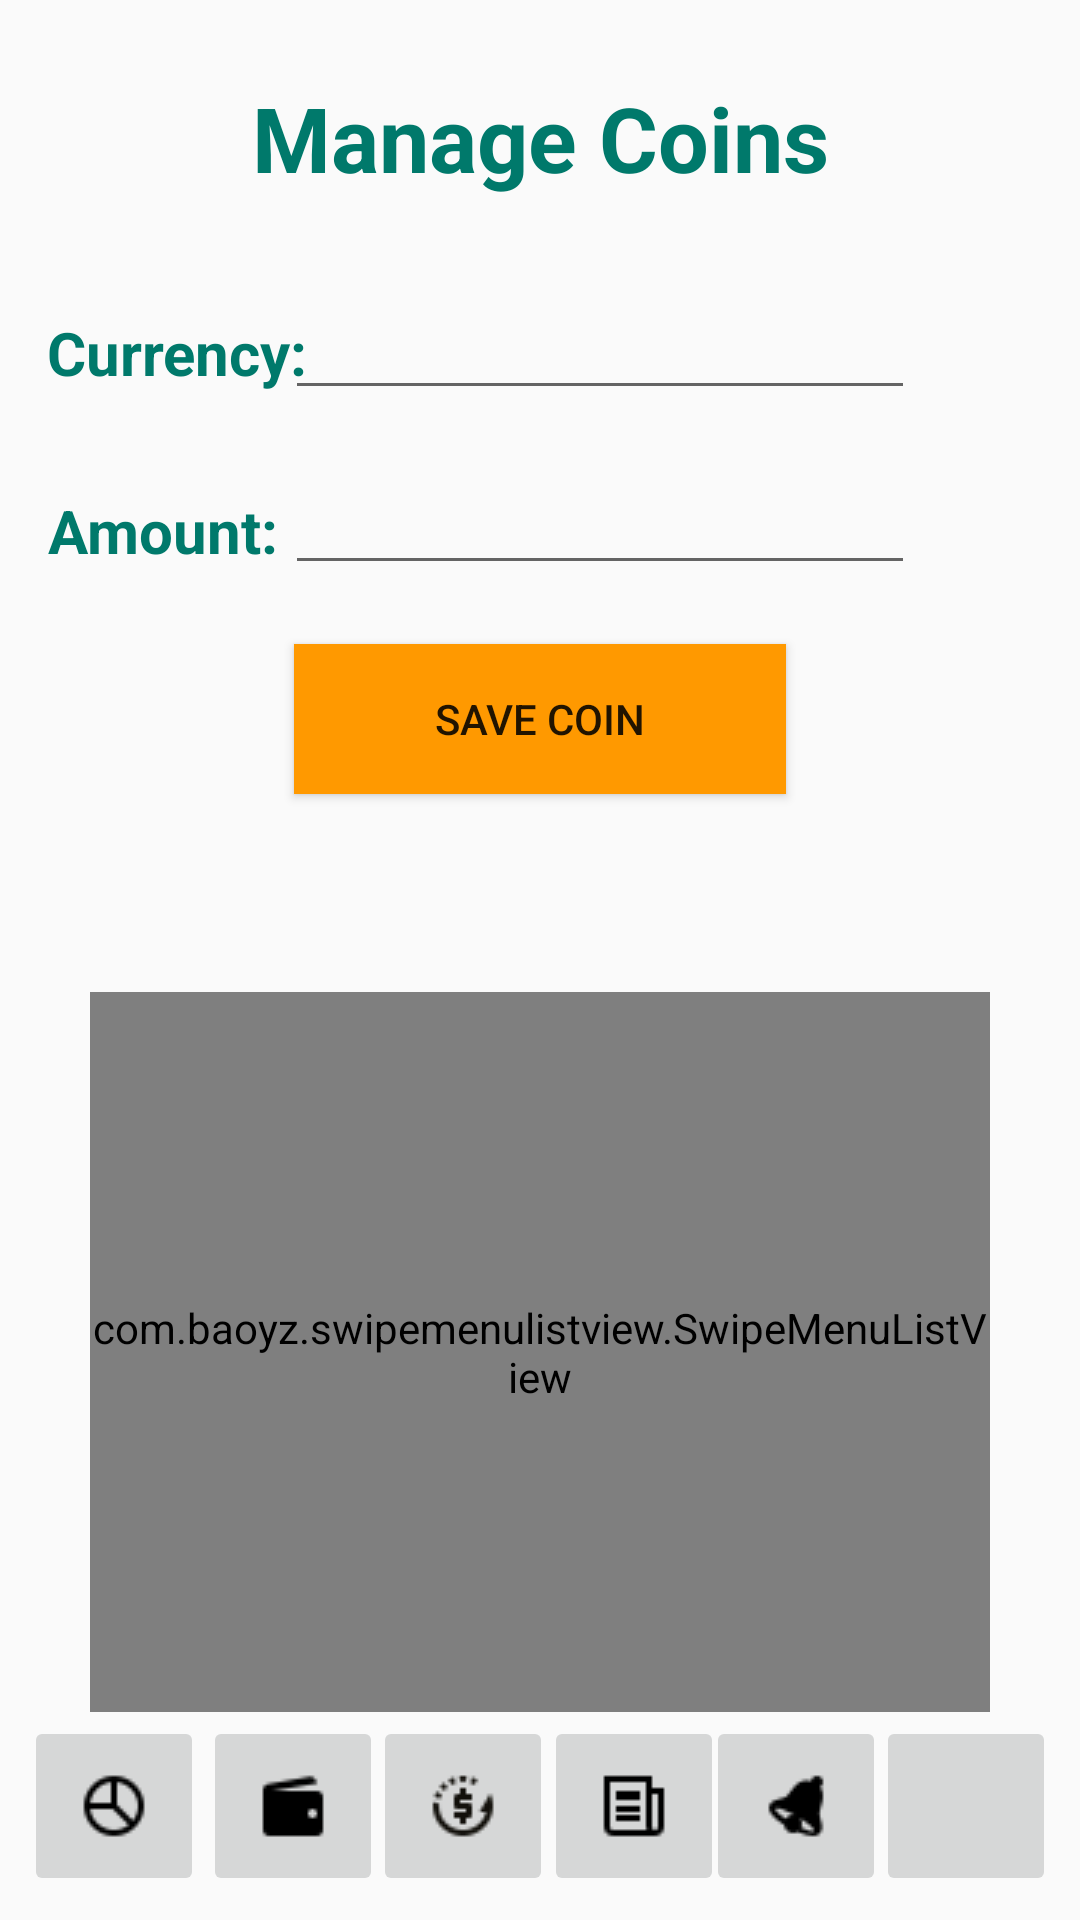

Point at icon controls on the screen. Image size 1080px×1920px, points as point (x, y).
alerts: point (796, 1806)
news: point (634, 1806)
portfolio: point (114, 1806)
transaction: point (463, 1806)
wallet: point (293, 1806)
